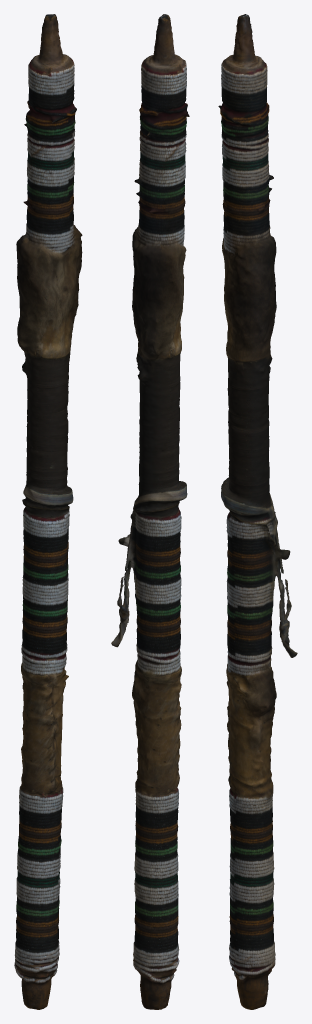
File: pipe.gltf
The picture shows the model from 3 angles, left to right: view 1: azimuth 90°, elevation 25°; view 2: azimuth 150°, elevation 25°; view 3: azimuth 330°, elevation 25°; orthographic projection.
Parts seen in each view (by area): view 1: pipe; view 2: pipe; view 3: pipe.
Boxes of the visible parts, x1,y1,x2,y2 form: pipe: (14, 14, 82, 1009); pipe: (111, 14, 189, 1009); pipe: (218, 14, 297, 1009).
Bounding box in the file's own units: 0.7941 × 11.22 × 0.6983.
Materials: 1 (1 with a texture image).
